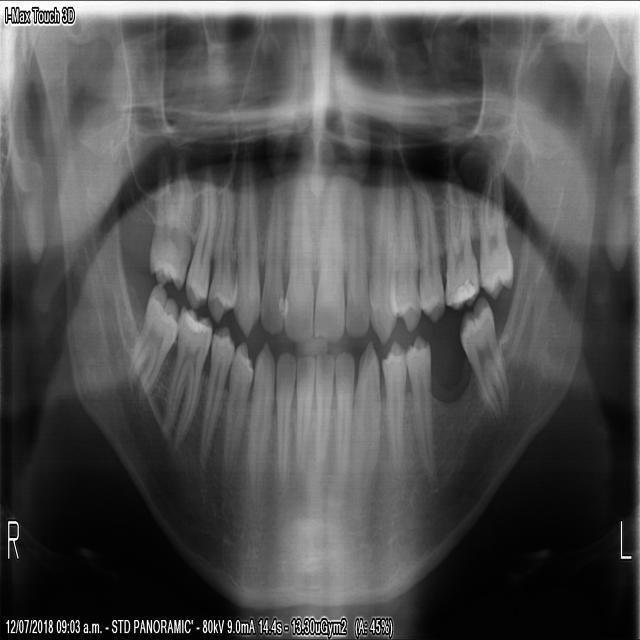LCD: (349, 337, 382, 510)
LCU: (371, 168, 396, 344)
LID: (333, 352, 354, 501), (313, 349, 334, 474)
LIU: (313, 174, 345, 349), (343, 172, 370, 340)
LMD: (455, 294, 513, 424)
LMU: (442, 163, 480, 316), (474, 162, 512, 301)
LPMD: (406, 337, 440, 488), (381, 333, 407, 474)
LPMU: (415, 185, 446, 322), (396, 179, 419, 326)
RCD: (246, 346, 275, 504)
RCU: (234, 169, 259, 335)
RID: (275, 349, 296, 494), (294, 349, 316, 480)
RIU: (284, 165, 316, 346), (259, 174, 286, 340)
RMD: (160, 312, 214, 449), (124, 288, 179, 407)
RMU: (183, 177, 220, 307), (168, 176, 195, 290), (150, 165, 175, 280)
RPMD: (198, 326, 236, 472), (223, 332, 253, 469)
RPMU: (209, 180, 234, 319)
